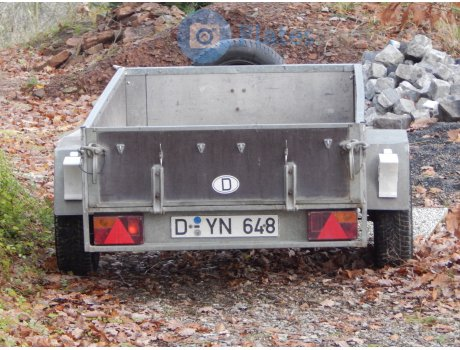License Plates: (175, 216, 276, 233)
